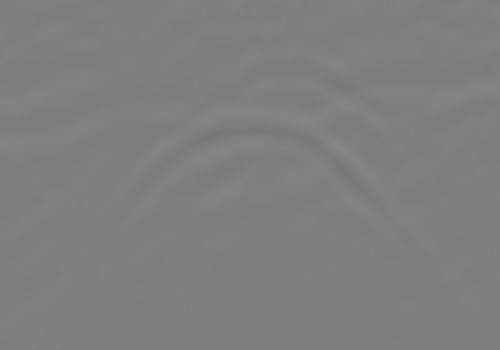Hyperbola: (52, 78, 474, 335)
